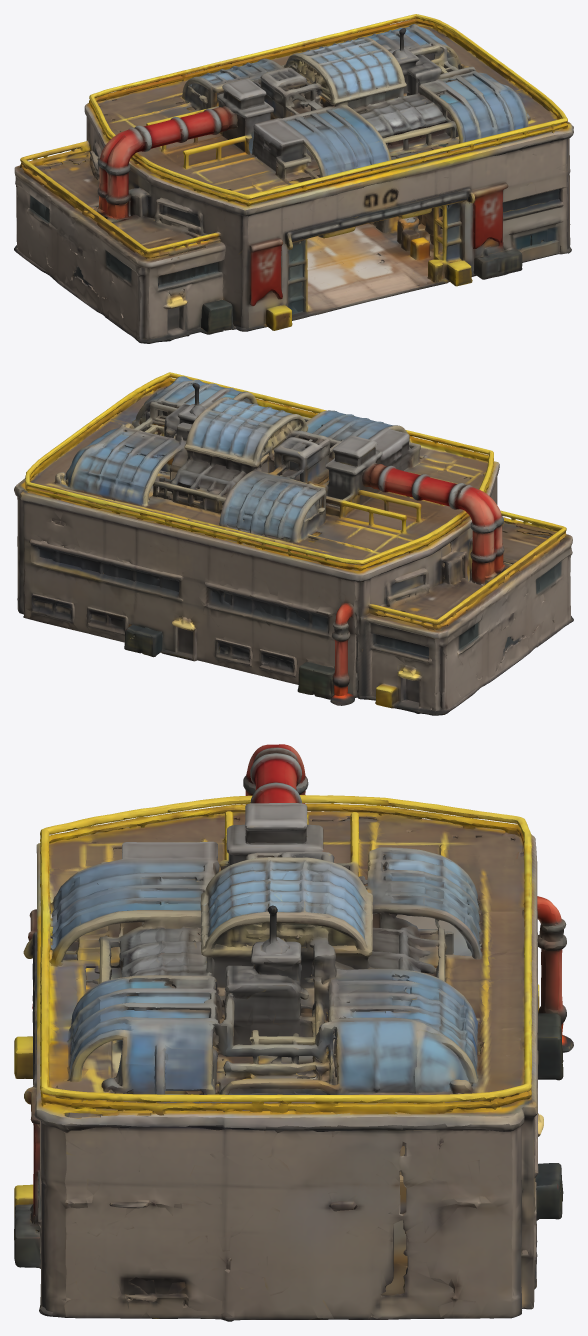
The model's file is b03_factory.glb.
3 renders of one model, top to bottom at view 1: azimuth 30°, elevation 25°; view 2: azimuth 150°, elevation 25°; view 3: azimuth 270°, elevation 25°, orthographic. The views are drawn at different scales.
Visible parts, largest first — view 1: world; view 2: world; view 3: world.
Part boxes in pixels (x1,y1,x2,y2): world: (14, 14, 573, 343); world: (14, 372, 573, 715); world: (14, 744, 573, 1321).
Bounding box in the file's own units: 45 × 19.85 × 30.54.
Materials: 1 (1 with a texture image).
